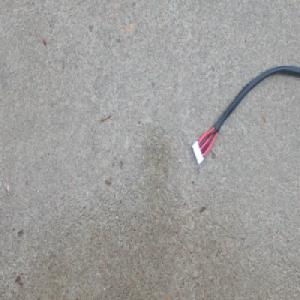Wire: (190, 63, 300, 165)
